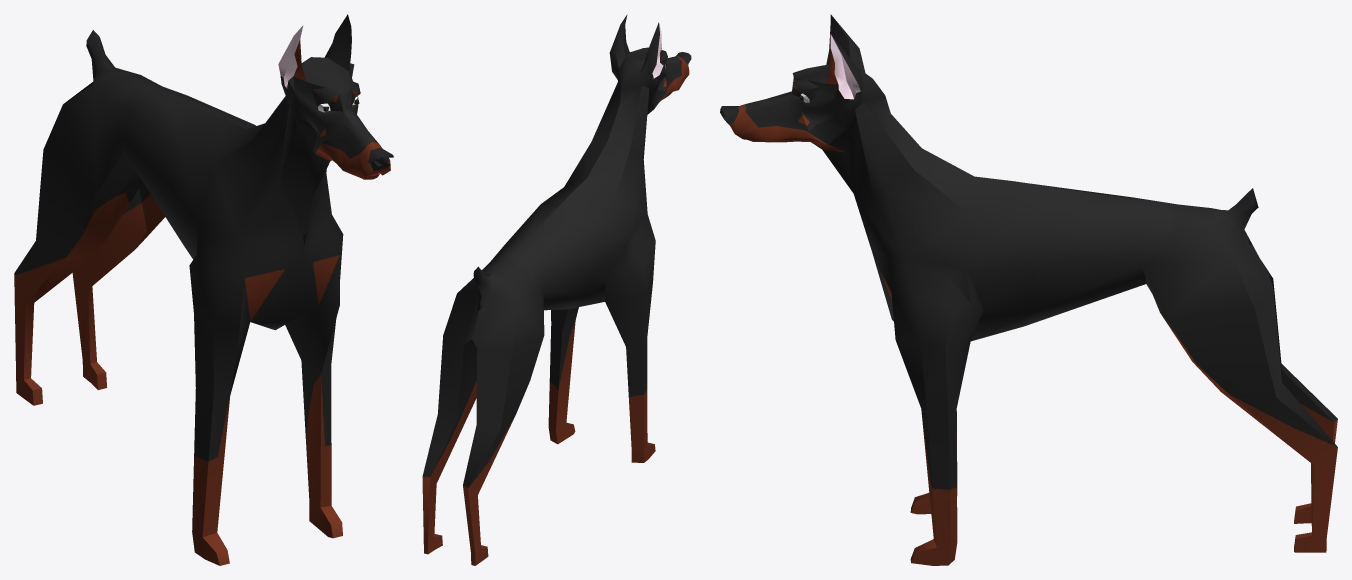
Rendered from perro-de-adric.glb.
The picture shows the model from 3 angles, left to right: view 1: azimuth 30°, elevation 25°; view 2: azimuth 150°, elevation 25°; view 3: azimuth 270°, elevation 25°; orthographic projection. The views are drawn at different scales.
Visible parts, largest first — view 1: character; view 2: character; view 3: character.
Boxes of the visible parts, box(x1,y1,x2,y2) form: character: box(14, 14, 393, 565); character: box(422, 14, 691, 565); character: box(720, 14, 1337, 565).
Bounding box in the file's own units: 0.2534 × 1 × 1.09.
1 material, 1 textured.
